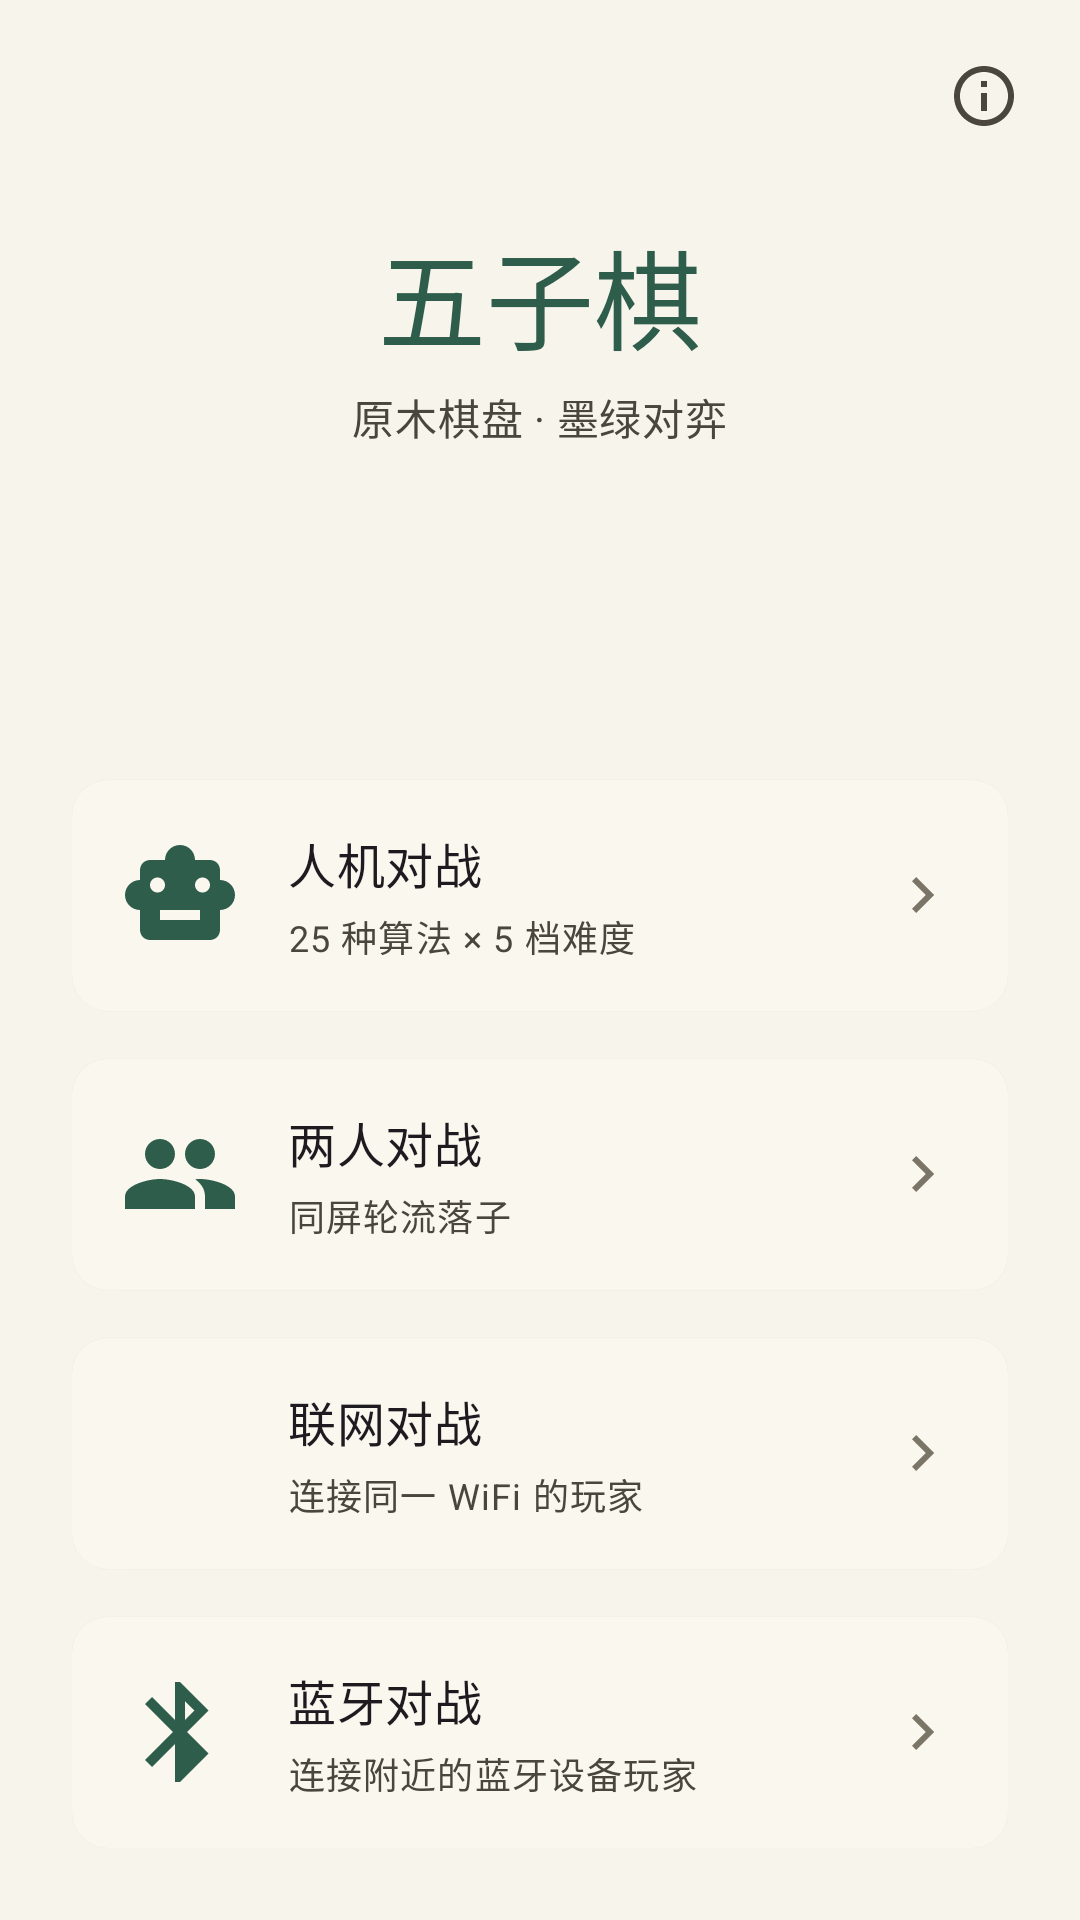

Icon click points for this 1080w x 1920h phone screenshot, format [x,y]:
chevron right: [923,895], [923,1174], [923,1453], [923,1732]
mode ai: [180,892]
mode person: [180,1174]
关于: [984,96]
